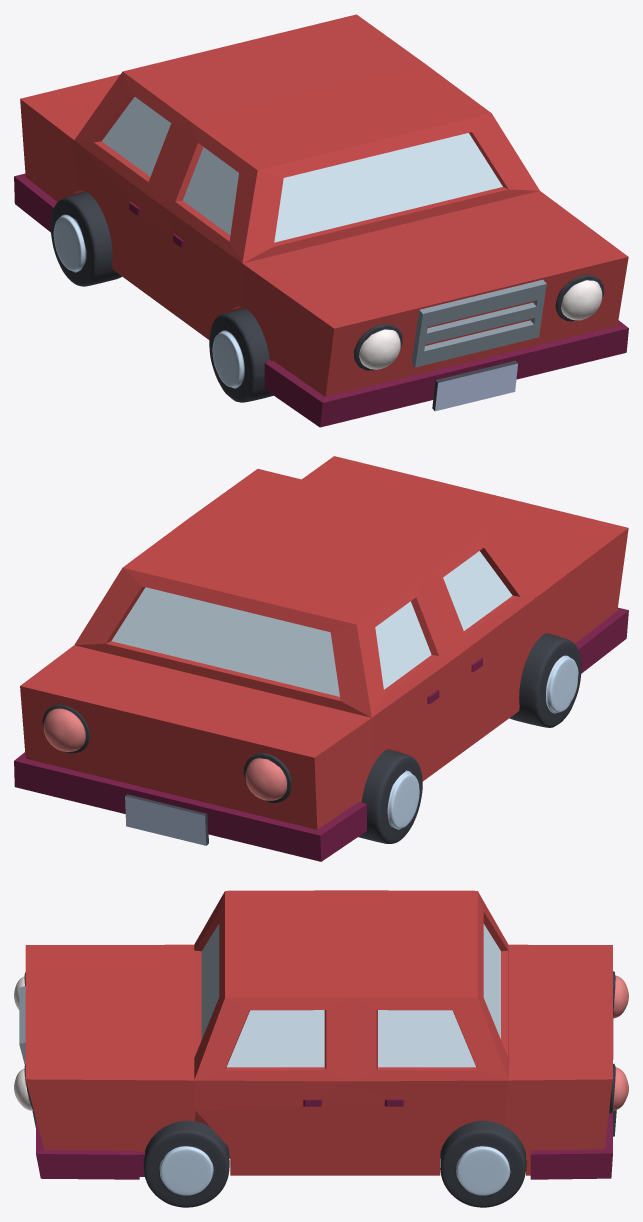
The model's file is red_car.fbx.
The picture shows the model from 3 angles, top to bottom: view 1: azimuth 30°, elevation 25°; view 2: azimuth 150°, elevation 25°; view 3: azimuth 270°, elevation 25°; orthographic projection. The views are drawn at different scales.
Parts seen in each view (by area): view 1: car, wheels, plate; view 2: car, wheels, plate; view 3: car, wheels, plate.
Part boxes in pixels (x1,y1,x2,y2): car: (14, 14, 628, 427); wheels: (50, 192, 604, 402); plate: (411, 279, 546, 411); car: (14, 456, 628, 861); wheels: (42, 633, 581, 843); plate: (125, 794, 208, 845); car: (25, 890, 613, 1179); wheels: (14, 971, 628, 1207); plate: (19, 986, 616, 1136).
Bounding box in the file's own units: 235 × 135 × 395.
